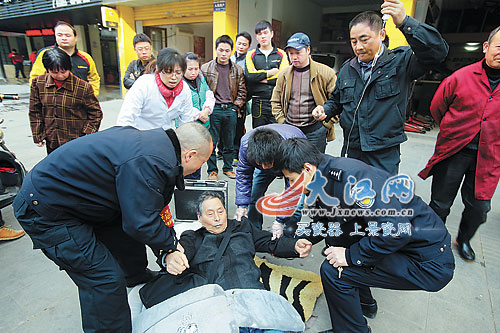10+: (1, 1, 500, 331)
down: (135, 185, 317, 332)
